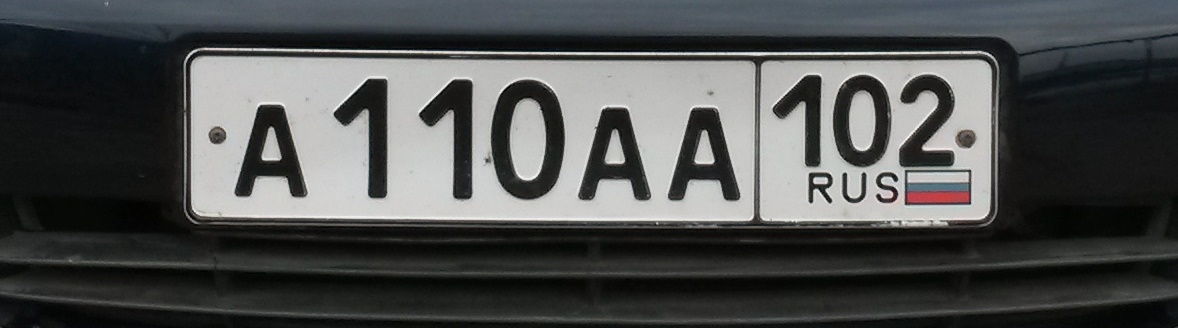number_plate: (196, 48, 990, 216)
